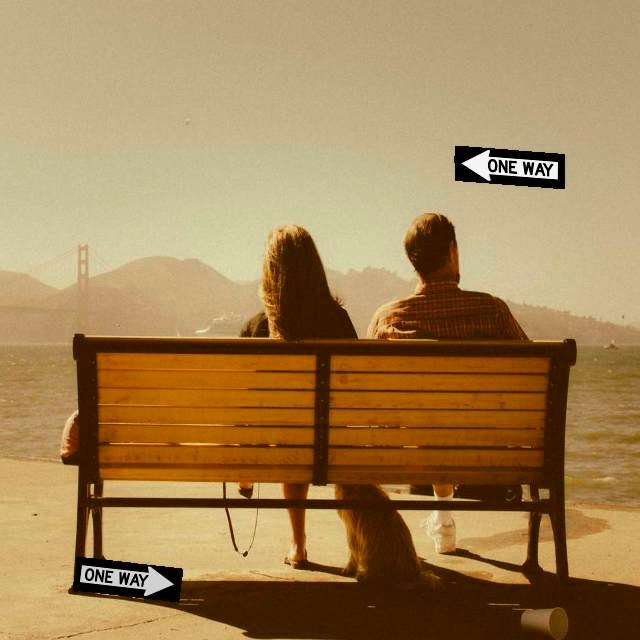ONE_WAY_ left: (454, 145, 565, 189)
ONE_WAY_ right: (72, 556, 183, 602)
